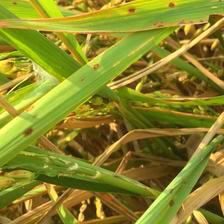0 BrownSpot: (18, 125, 36, 138), (125, 4, 140, 15), (165, 1, 178, 9), (166, 196, 175, 207), (89, 62, 102, 69)
